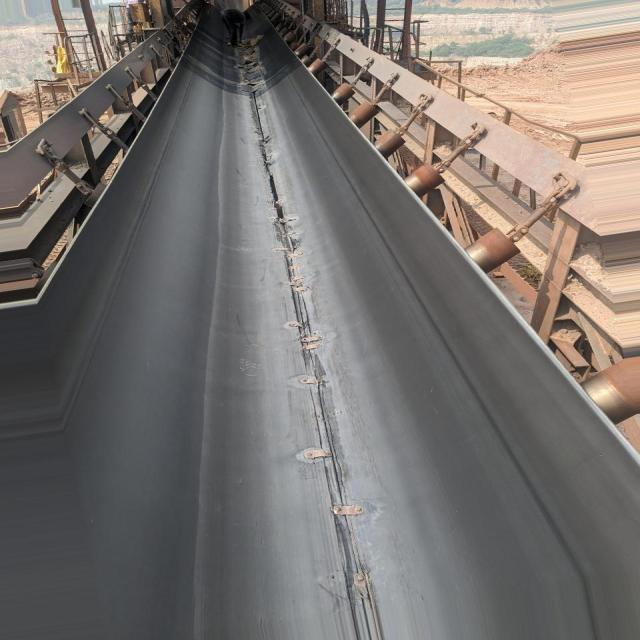Human: (218, 5, 256, 39)
Roller: (268, 13, 527, 273)
Tear: (245, 87, 309, 267)
patch work: (290, 284, 390, 634), (235, 41, 272, 80)
